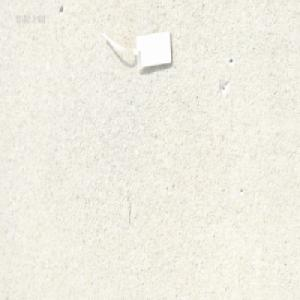LuggageTag: (100, 27, 174, 73)
